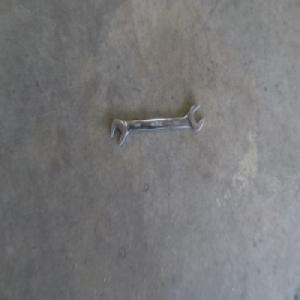Wrench: (109, 105, 206, 148)
